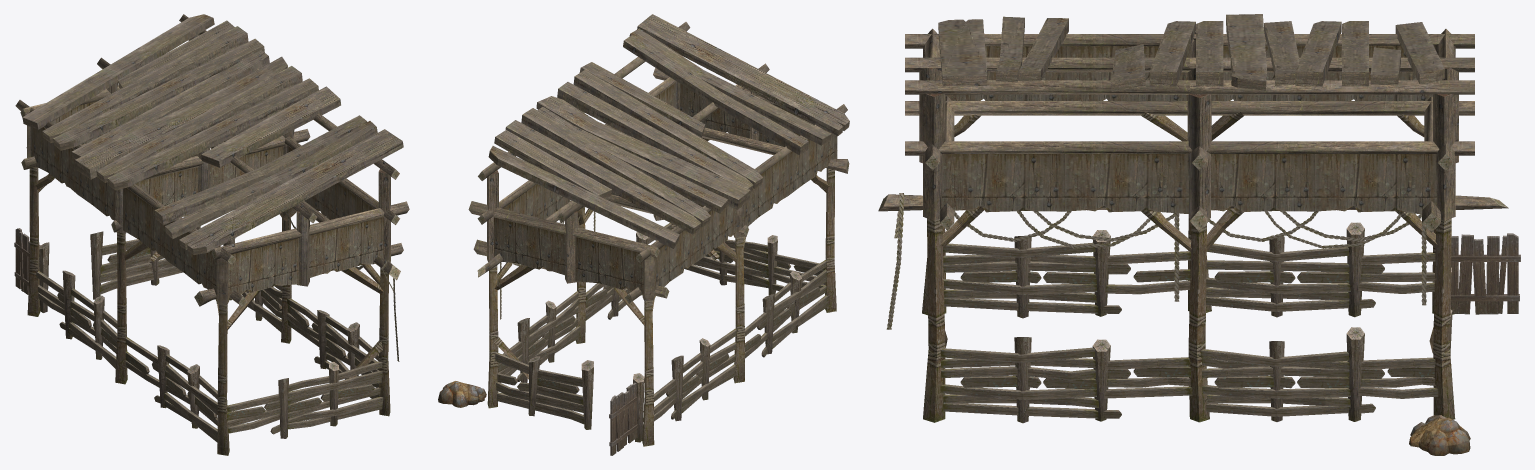
Rendered from bg_lut_doplain_stall01_sm_artree.FBX.
3 views of the same model, side by side, from view 1: azimuth 30°, elevation 25°; view 2: azimuth 150°, elevation 25°; view 3: azimuth 270°, elevation 25° (orthographic). The views are drawn at different scales.
Parts seen in each view (by area): view 1: bg_lut_doplain_stall01_sm_artree; view 2: bg_lut_doplain_stall01_sm_artree; view 3: bg_lut_doplain_stall01_sm_artree.
Part boxes in pixels (left/top/right/bottom): bg_lut_doplain_stall01_sm_artree: left=14, top=14, right=409, bottom=455; bg_lut_doplain_stall01_sm_artree: left=438, top=14, right=849, bottom=455; bg_lut_doplain_stall01_sm_artree: left=878, top=14, right=1520, bottom=455.
Bounding box in the file's own units: 342 × 362 × 588.
